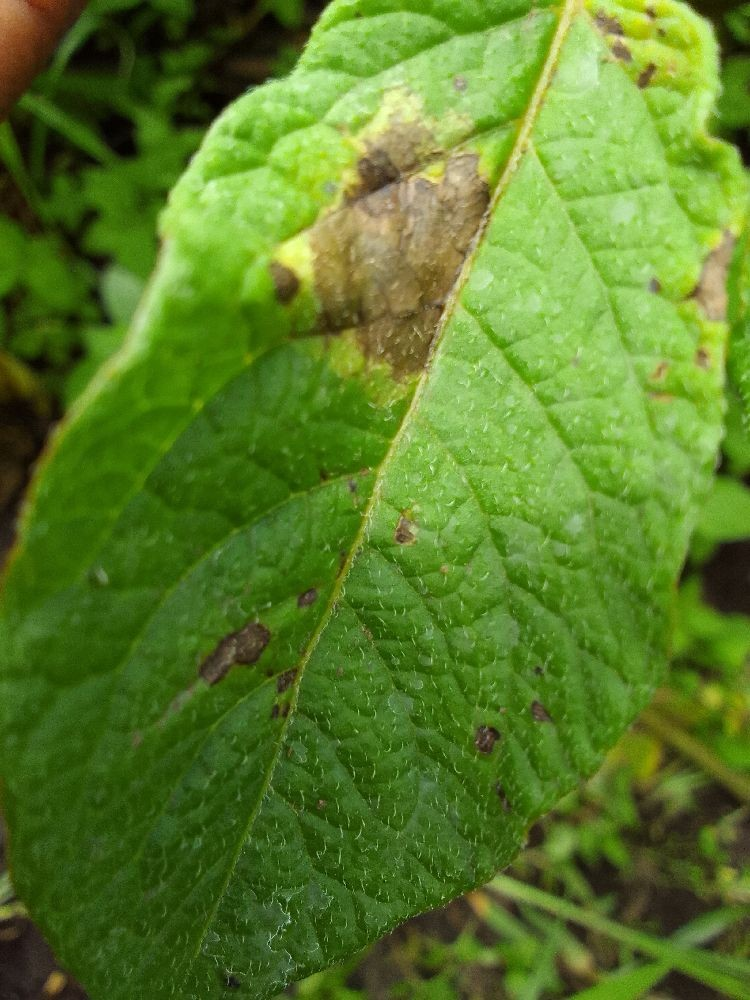late_blight: (297, 613, 750, 1000), (254, 103, 511, 402), (0, 254, 111, 638), (0, 0, 105, 142)
